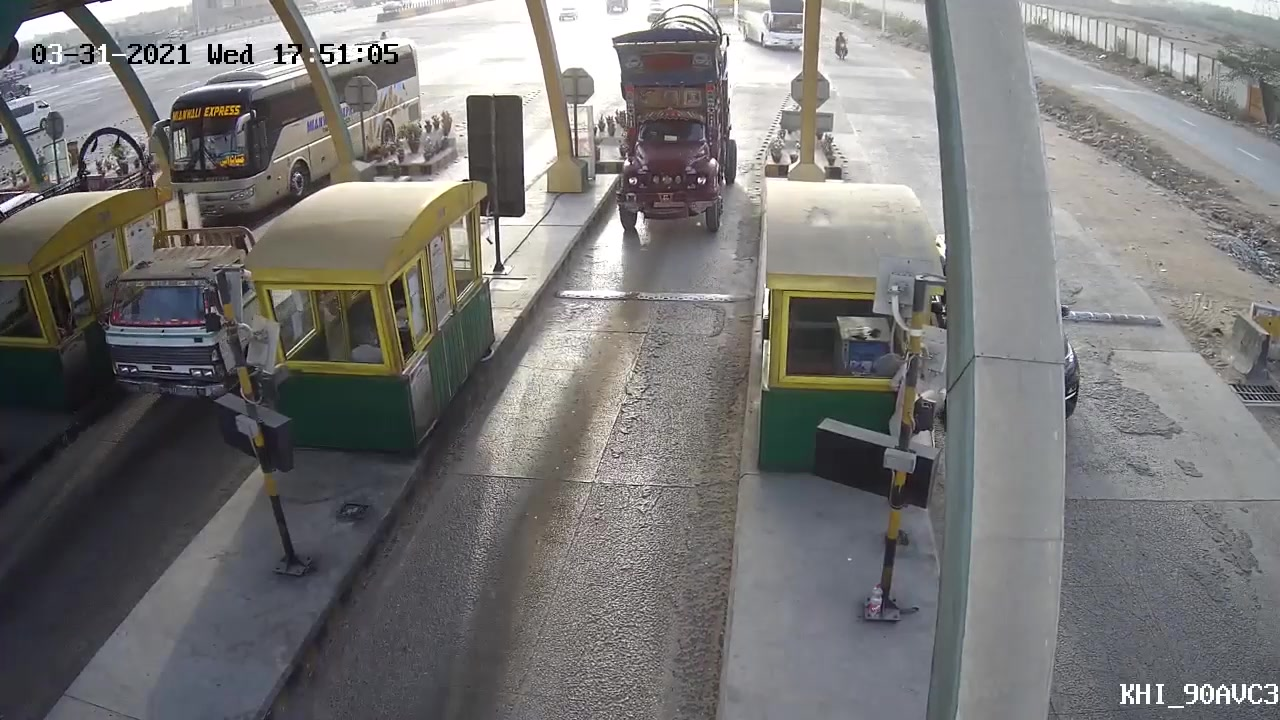F5: (586, 1, 746, 234)
